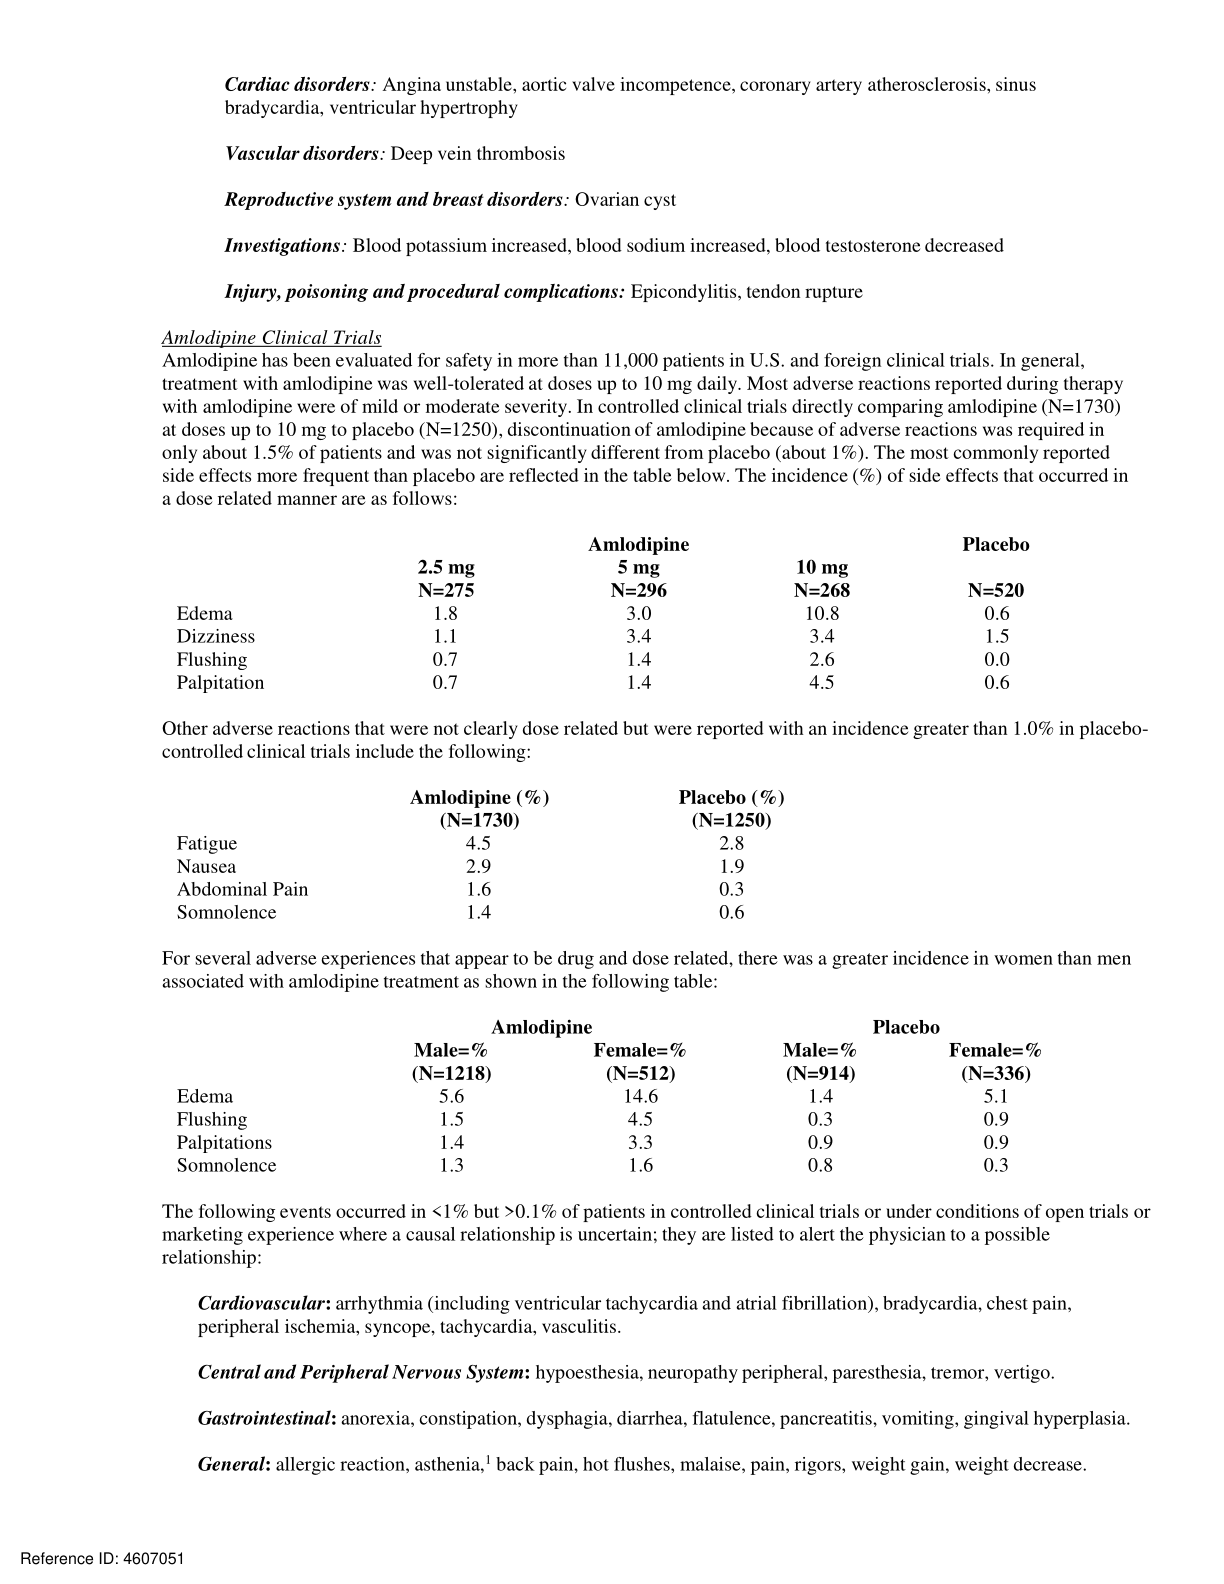nolines: (174, 1021, 1041, 1178), (172, 536, 1032, 690), (174, 788, 786, 918)
